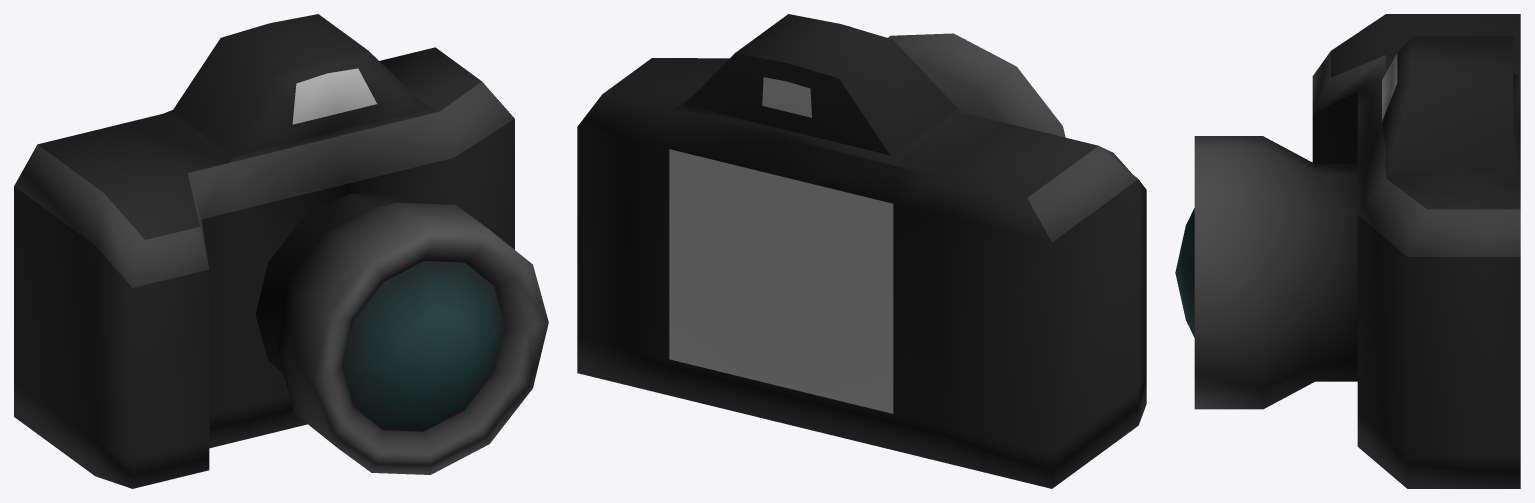
3 renders of one model, left to right at view 1: azimuth 30°, elevation 25°; view 2: azimuth 150°, elevation 25°; view 3: azimuth 270°, elevation 25°, orthographic. The views are drawn at different scales.
Parts seen in each view (by area): view 1: screen.006; view 2: screen.006; view 3: screen.006.
Boxes of the visible parts, <box> form: screen.006: <box>14,14,548,488</box>; screen.006: <box>577,14,1146,488</box>; screen.006: <box>1175,14,1520,488</box>.
Size of the model in its own units: 0.5 by 0.3614 by 0.3345.
